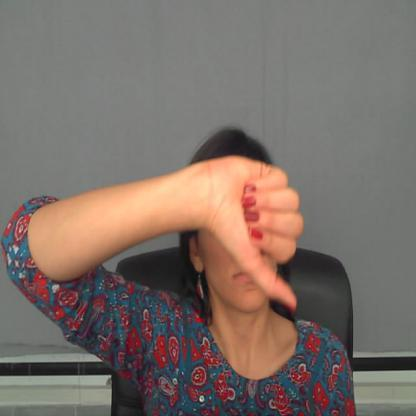thumbs-down: (216, 154, 311, 306)
